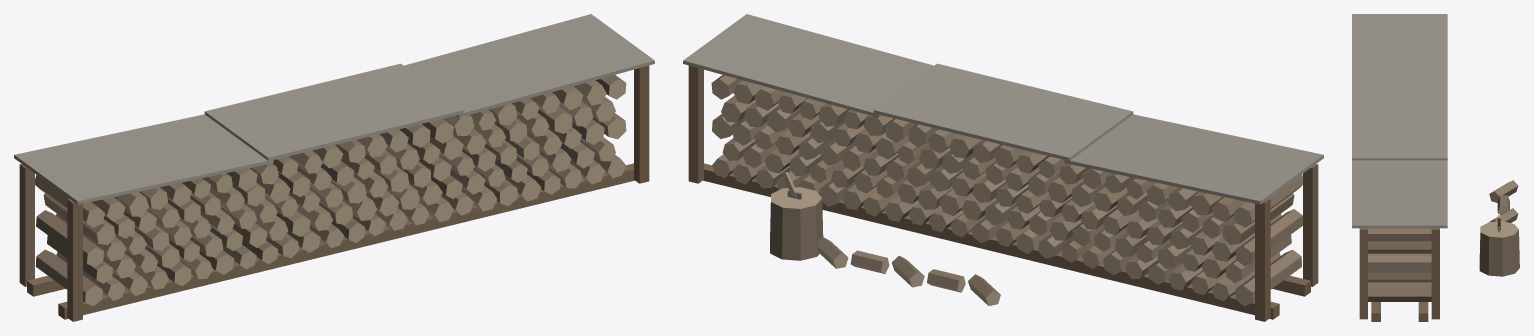
File: brennholzstapel_lang.glb
3 renders of one model, left to right at view 1: azimuth 30°, elevation 25°; view 2: azimuth 150°, elevation 25°; view 3: azimuth 270°, elevation 25°, orthographic. The views are drawn at different scales.
Visible parts, largest first — view 1: stapel; view 2: stapel; view 3: stapel.
Part boxes in pixels (left/top/right/bottom): stapel: left=14, top=14, right=654, bottom=321; stapel: left=683, top=14, right=1323, bottom=321; stapel: left=1352, top=14, right=1519, bottom=321.
Bounding box in the file's own units: 5.3 × 1.12 × 1.77.
